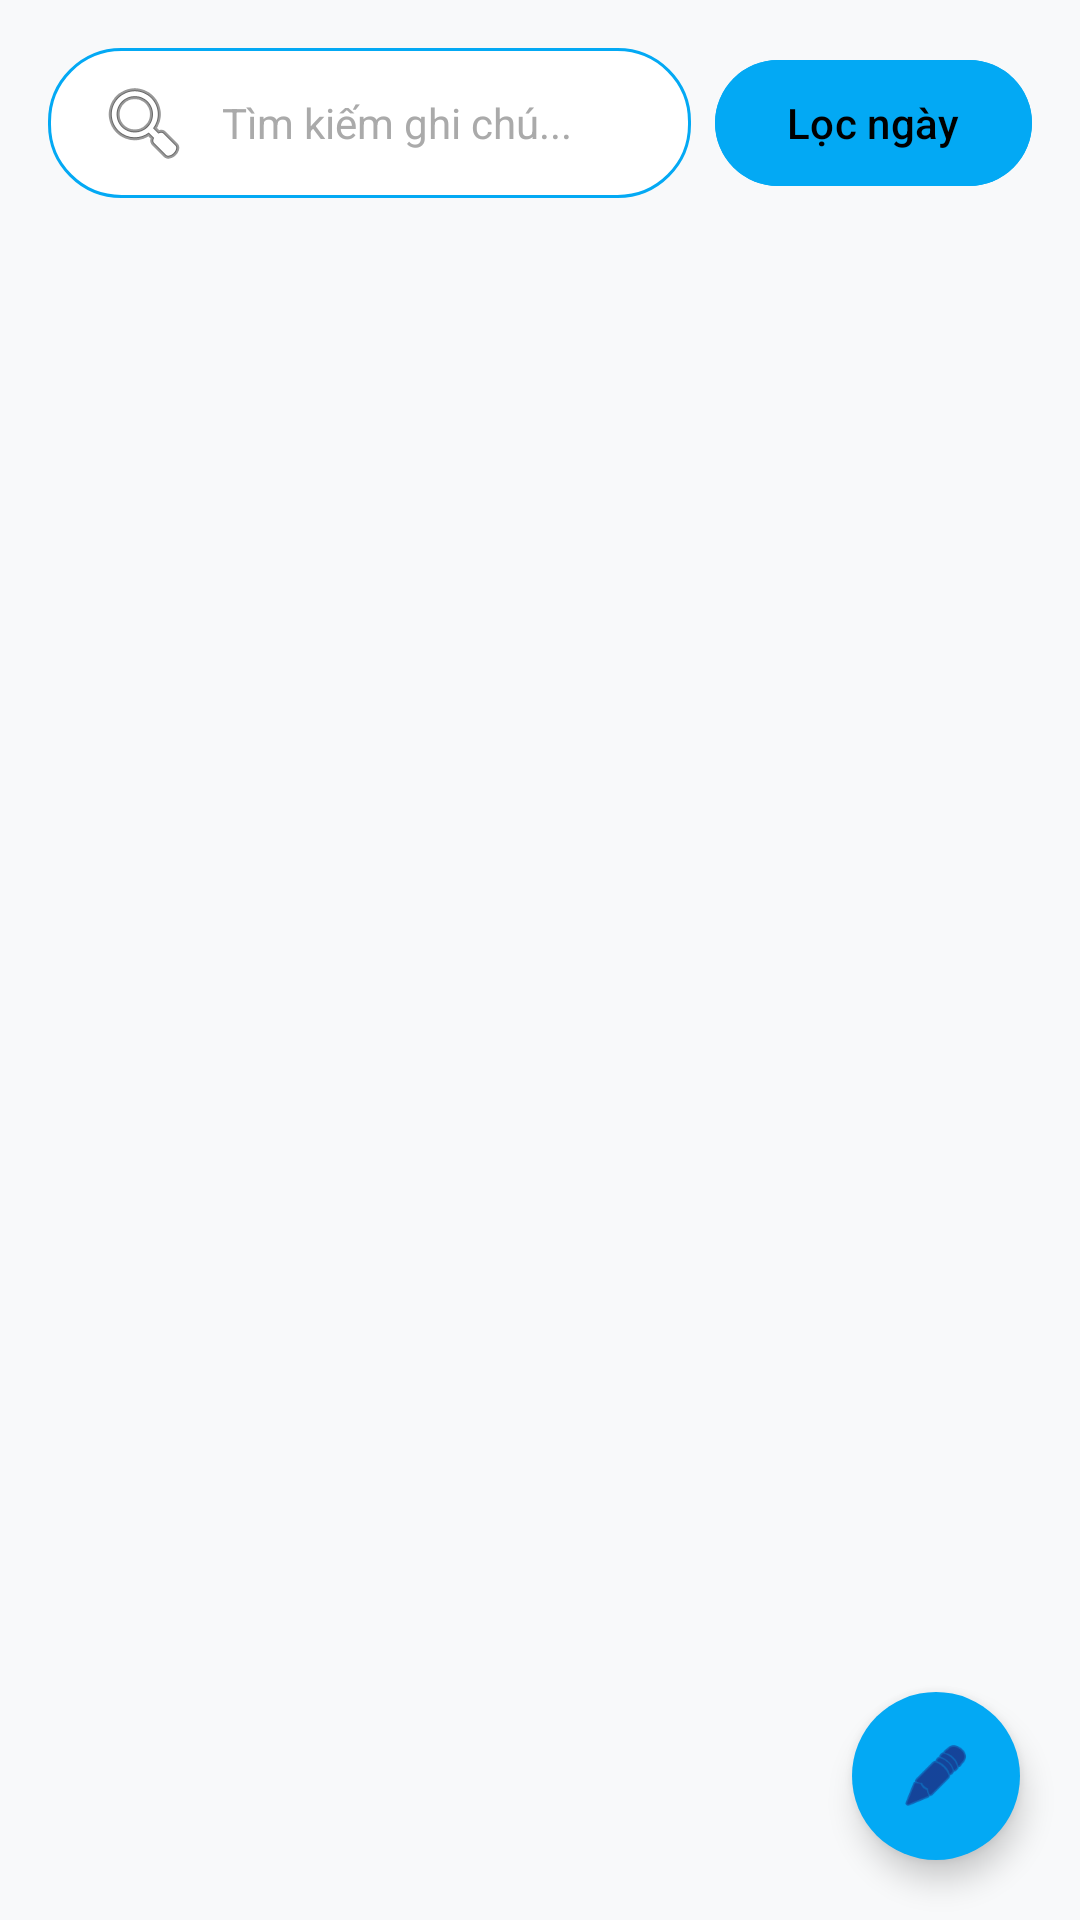

Locate icon controls on the screen. Image size 1080px x 1920px, boxes as (left=x1, top=y1, right=x2, bottom=y2).
Thêm ghi chú: (left=852, top=1692, right=1020, bottom=1860)
